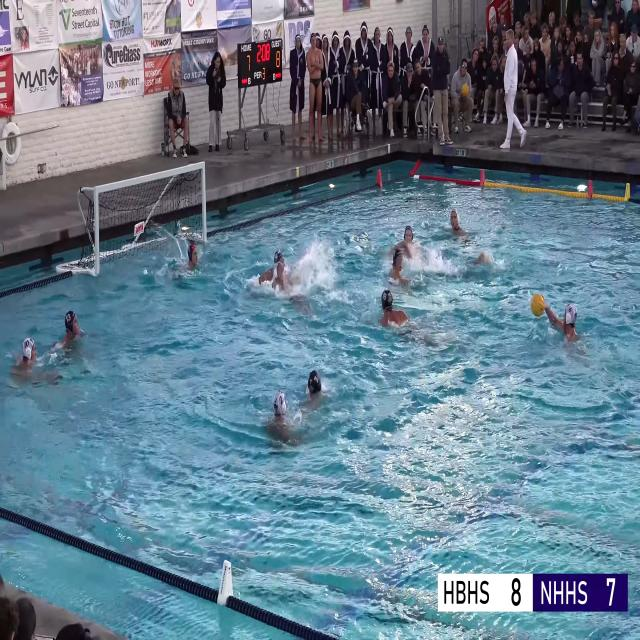ball: (531, 294, 544, 316), (462, 83, 468, 97)
